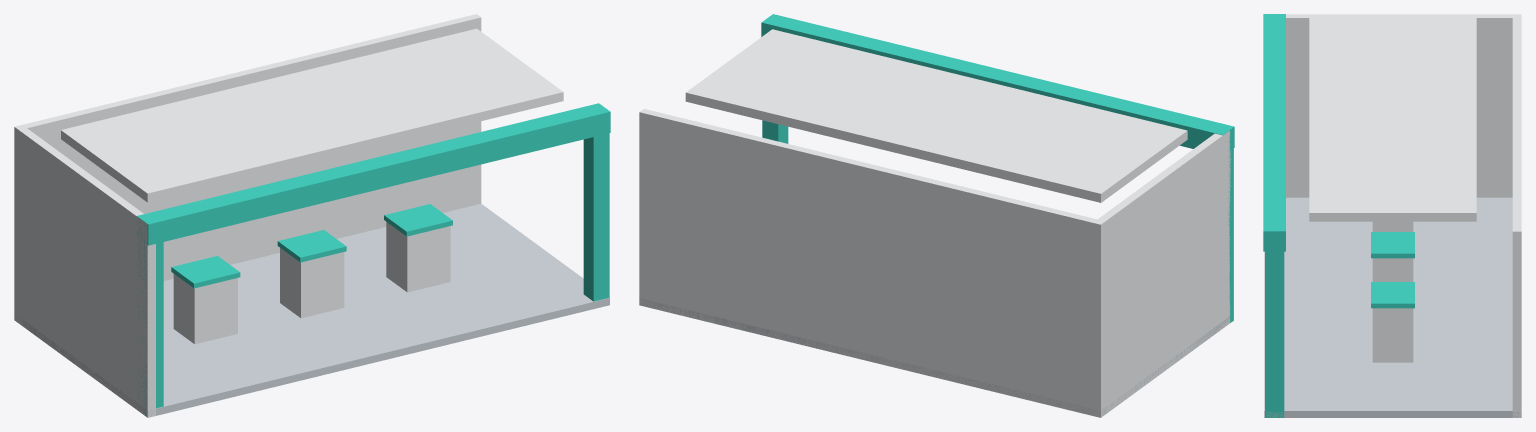
The picture shows the model from 3 angles, left to right: view 1: azimuth 30°, elevation 25°; view 2: azimuth 150°, elevation 25°; view 3: azimuth 270°, elevation 25°; orthographic projection. The views are drawn at different scales.
Visible parts, largest first — view 1: Exhibition Booth Concept; view 2: Exhibition Booth Concept; view 3: Exhibition Booth Concept.
Boxes of the visible parts, x1,y1,x2,y2 form: Exhibition Booth Concept: (14,14,610,417); Exhibition Booth Concept: (639,14,1234,417); Exhibition Booth Concept: (1263,14,1521,417).
Size of the model in its own units: 8 by 3.34 by 4.02.
